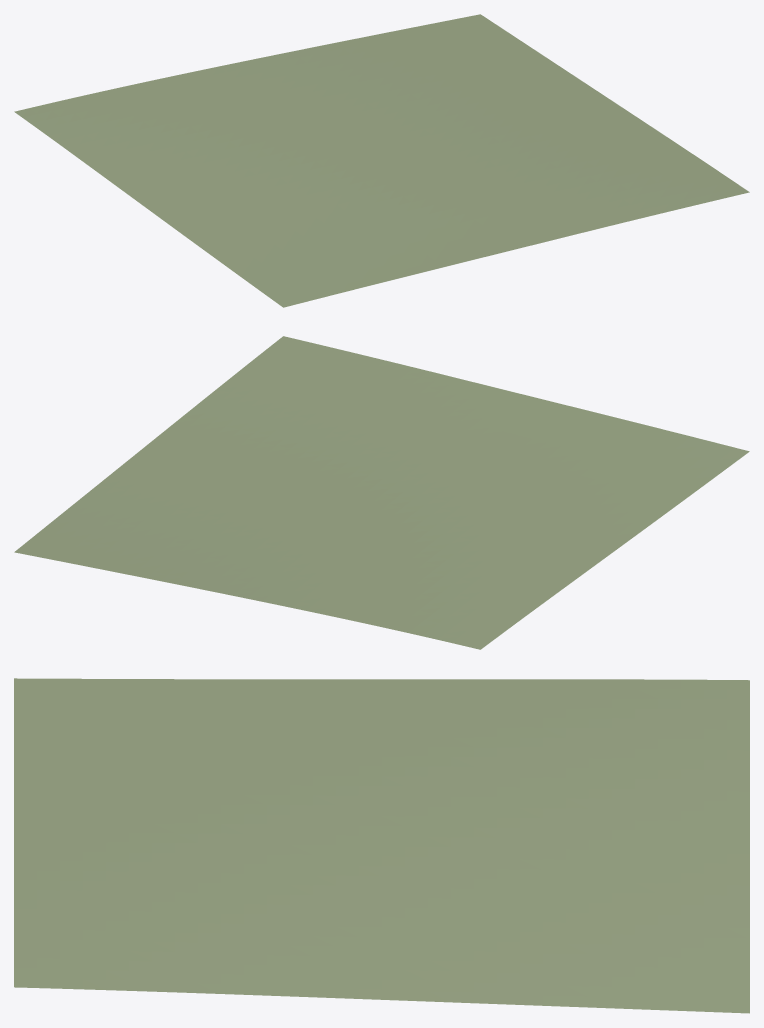
File: desert-1-25.glb
The picture shows the model from 3 angles, top to bottom: view 1: azimuth 30°, elevation 25°; view 2: azimuth 150°, elevation 25°; view 3: azimuth 270°, elevation 25°; orthographic projection. The views are drawn at different scales.
Visible parts, largest first — view 1: desert-1-25; view 2: desert-1-25; view 3: desert-1-25.
Part boxes in pixels (x1,y1,x2,y2): desert-1-25: [14, 14, 749, 307]; desert-1-25: [14, 336, 749, 649]; desert-1-25: [14, 678, 749, 1013].
Bounding box in the file's own units: 512 × 20.55 × 512.
